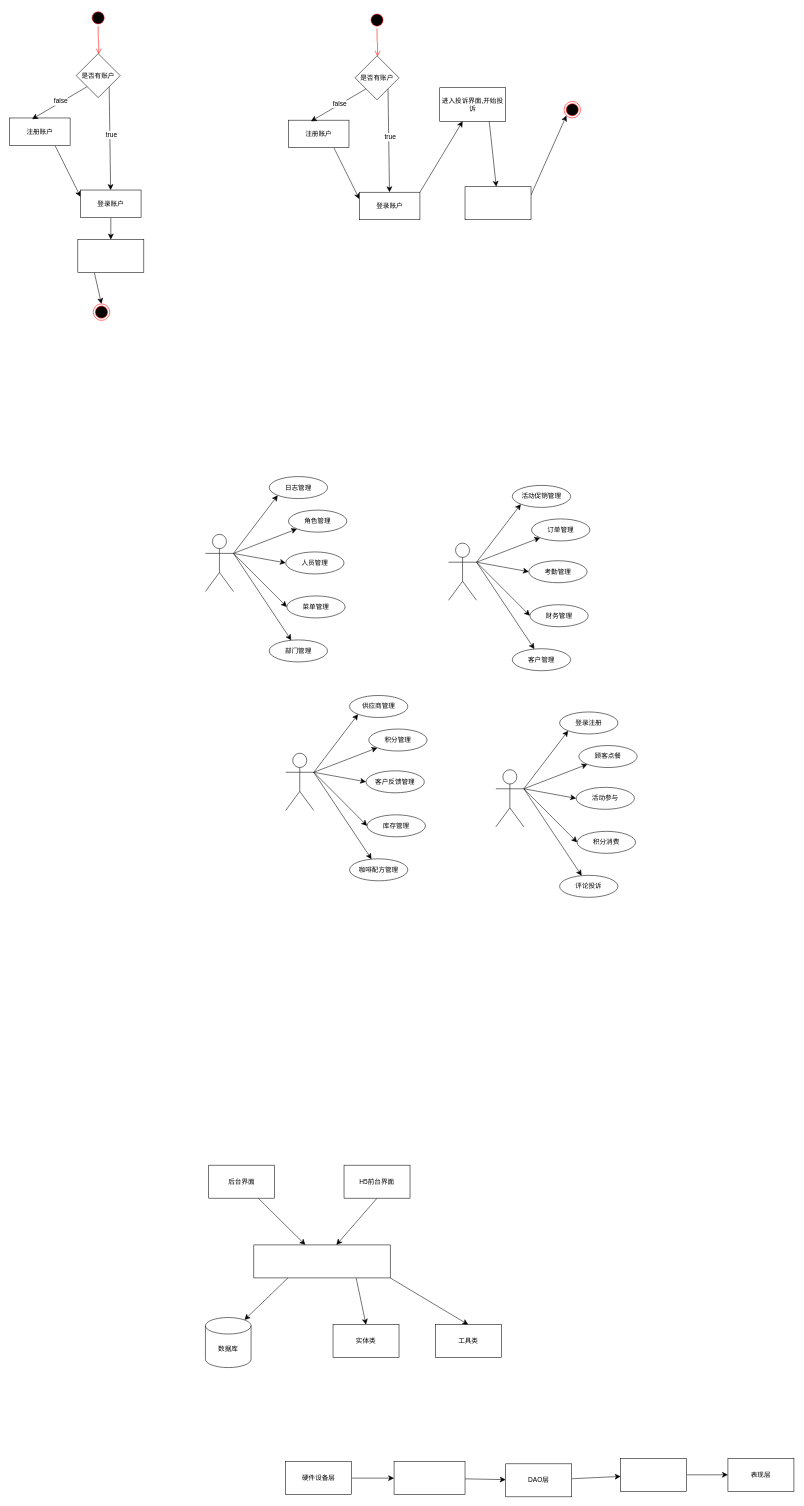
Image size: 804x1506. Some labels were removed from this diagram. Here are the shapes that lost their labels. From the top down, the centre of each, then its label:
pixel 497 203: 员工处理投诉
pixel 110 256: 进入点餐界面,开始点餐
pixel 219 563: 管理员
pixel 462 571: 店长
pixel 299 781: 员工
pixel 509 798: 顾客
pixel 321 1261: 业务逻辑功能实现API
pixel 429 1478: 数据存储层
pixel 653 1474: 业务层
